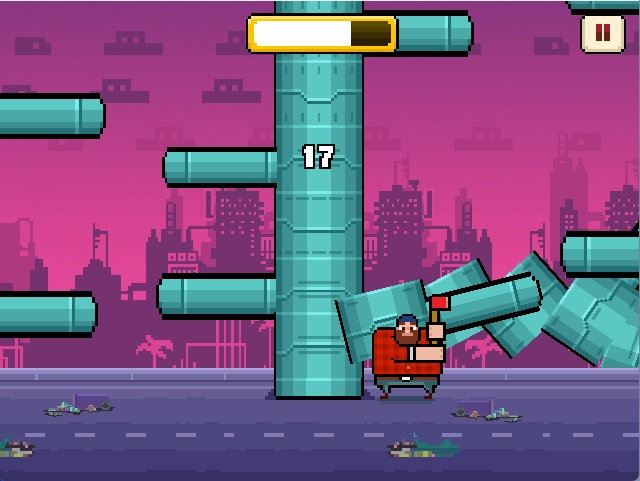left_obs: (154, 270, 283, 322), (157, 143, 281, 193)
timberman: (368, 287, 456, 405)
